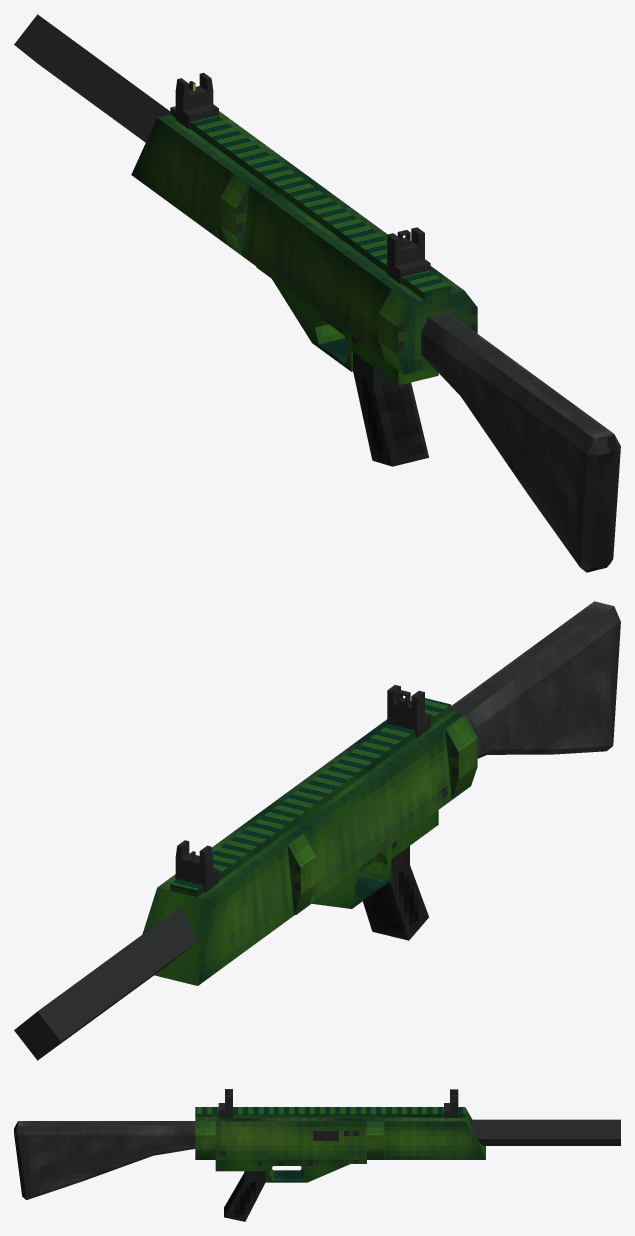
The model's file is cdr.gltf.
3 renders of one model, top to bottom at view 1: azimuth 30°, elevation 25°; view 2: azimuth 150°, elevation 25°; view 3: azimuth 270°, elevation 25°, orthographic. The views are drawn at different scales.
Parts seen in each view (by area): view 1: reciever, stock, barrel, grip, sights; view 2: reciever, stock, barrel, grip, sights; view 3: reciever, stock, barrel, grip, sights.
Part boxes in pixels (x1=…): reciever: x1=131, y1=106, x2=477, y2=385; stock: x1=421, y1=312, x2=620, y2=572; barrel: x1=14, y1=14, x2=170, y2=142; grip: x1=353, y1=352, x2=428, y2=466; sights: x1=175, y1=72, x2=430, y2=284; reciever: x1=142, y1=698, x2=477, y2=985; stock: x1=451, y1=601, x2=620, y2=758; barrel: x1=14, y1=906, x2=197, y2=1060; grip: x1=363, y1=846, x2=428, y2=940; sights: x1=175, y1=685, x2=430, y2=892; reciever: x1=195, y1=1107, x2=485, y2=1182; stock: x1=14, y1=1121, x2=195, y2=1200; barrel: x1=468, y1=1119, x2=620, y2=1145; grip: x1=224, y1=1171, x2=265, y2=1221; sights: x1=218, y1=1089, x2=458, y2=1117.
Bounding box in the file's own units: 0.0749 × 0.2094 × 0.9266.
Materials: 3 (3 with a texture image).
